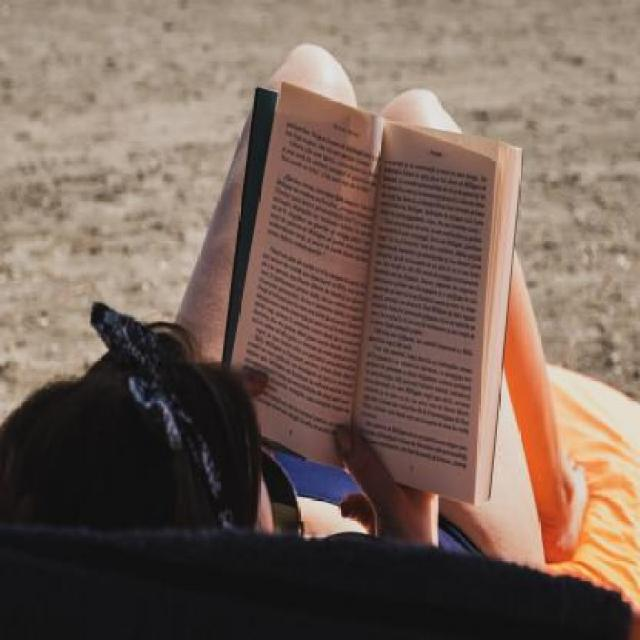book: (155, 58, 572, 514)
